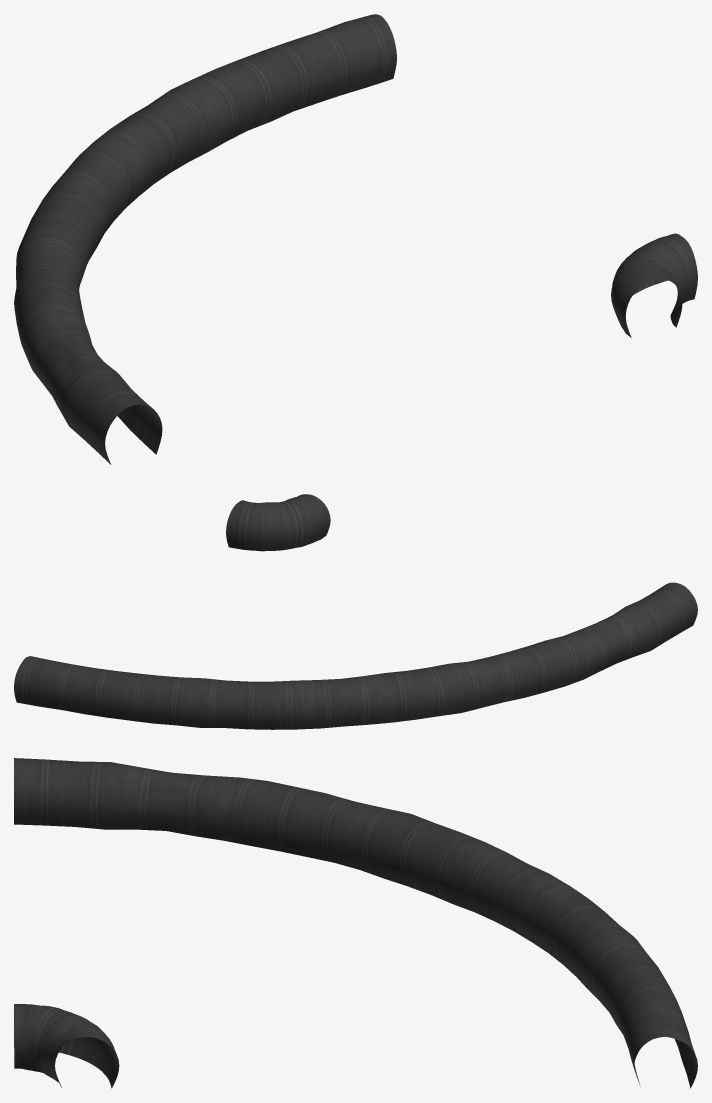
The model's file is BlackEdgeCurve_complex.dae.
3 renders of one model, top to bottom at view 1: azimuth 30°, elevation 25°; view 2: azimuth 150°, elevation 25°; view 3: azimuth 270°, elevation 25°, orthographic. The views are drawn at different scales.
Parts seen in each view (by area): view 1: BlackEdgeCurve; view 2: BlackEdgeCurve; view 3: BlackEdgeCurve.
Part boxes in pixels (x1,y1,x2,y2): BlackEdgeCurve: [14, 14, 697, 464]; BlackEdgeCurve: [14, 494, 697, 729]; BlackEdgeCurve: [14, 758, 697, 1088].
Bounding box in the file's own units: 0.944 × 0.9453 × 0.0834.
1 material, 1 textured.
